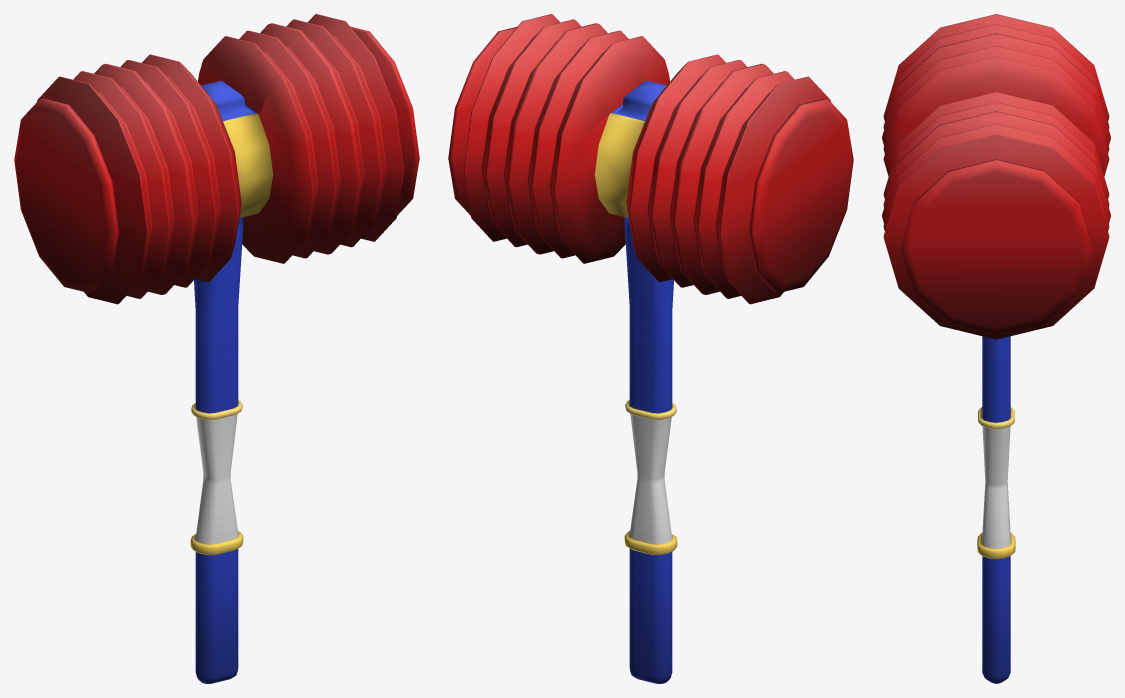
File: Squicky_Hammer.fbx
The picture shows the model from 3 angles, left to right: view 1: azimuth 30°, elevation 25°; view 2: azimuth 150°, elevation 25°; view 3: azimuth 270°, elevation 25°; orthographic projection. The views are drawn at different scales.
Visible parts, largest first — view 1: Hammer_Squicky; view 2: Hammer_Squicky; view 3: Hammer_Squicky.
Part boxes in pixels (x1,y1,x2,y2): Hammer_Squicky: (14,14,419,683); Hammer_Squicky: (448,14,853,683); Hammer_Squicky: (882,14,1110,683).
Bounding box in the file's own units: 3.72 × 7.16 × 2.45.
